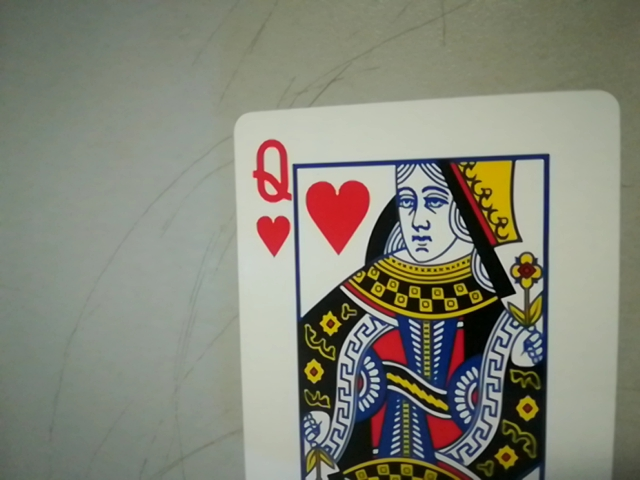hx q: (245, 129, 299, 260)
